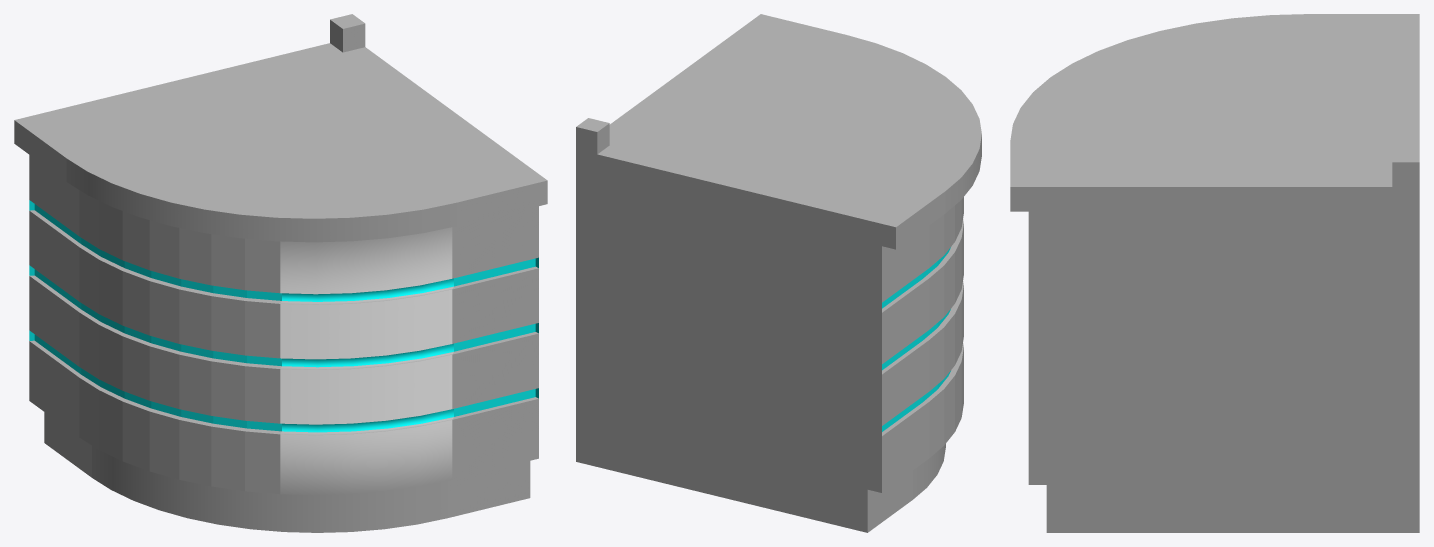
File: kitchenCabinetCornerRound.glb
3 views of the same model, side by side, from view 1: azimuth 30°, elevation 25°; view 2: azimuth 150°, elevation 25°; view 3: azimuth 270°, elevation 25° (orthographic). The views are drawn at different scales.
Parts seen in each view (by area): view 1: kitchenCabinetCornerRound; view 2: kitchenCabinetCornerRound; view 3: kitchenCabinetCornerRound.
Part boxes in pixels (box(x1,y1,x2,y2)): kitchenCabinetCornerRound: box(14, 14, 547, 532); kitchenCabinetCornerRound: box(576, 14, 981, 532); kitchenCabinetCornerRound: box(1010, 14, 1419, 532).
Bounding box in the file's own units: 0.9955 × 0.9955 × 0.9955.
